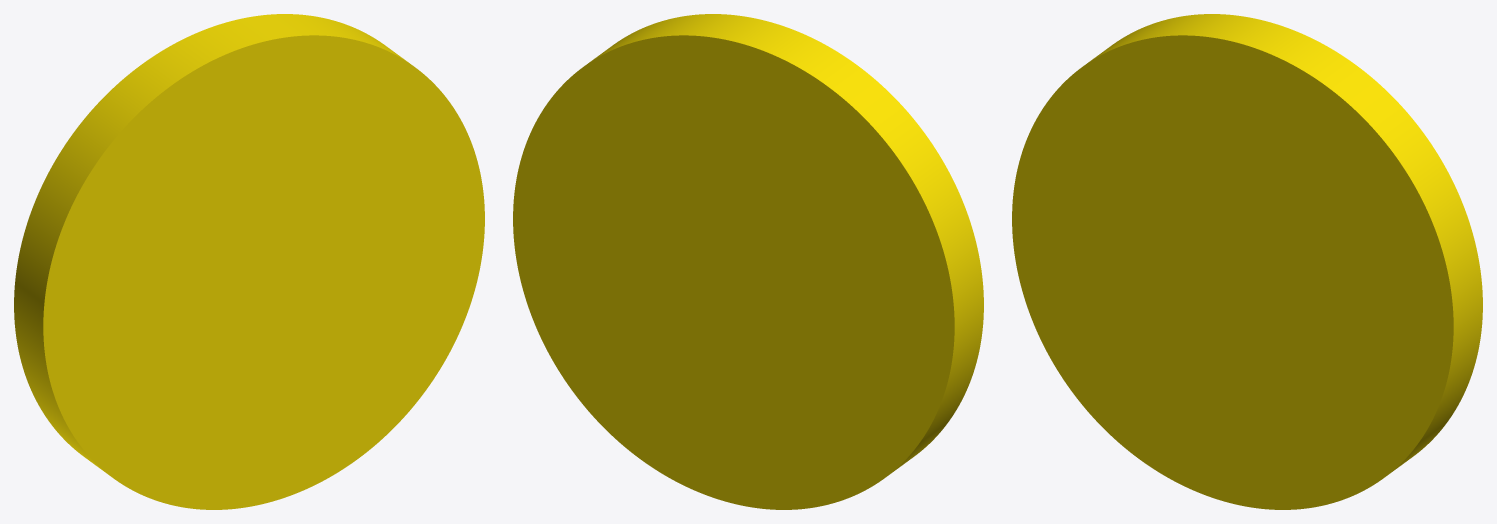
The model's file is ChipGelb.dae.
3 views of the same model, side by side, from view 1: azimuth 30°, elevation 25°; view 2: azimuth 150°, elevation 25°; view 3: azimuth 330°, elevation 25° (orthographic).
Visible parts, largest first — view 1: Cylinder; view 2: Cylinder; view 3: Cylinder.
Part boxes in pixels (x1,y1,x2,y2): Cylinder: [14, 14, 484, 509]; Cylinder: [513, 14, 983, 509]; Cylinder: [1012, 14, 1482, 509].
Size of the model in its own units: 69.65 by 69.65 by 8.
